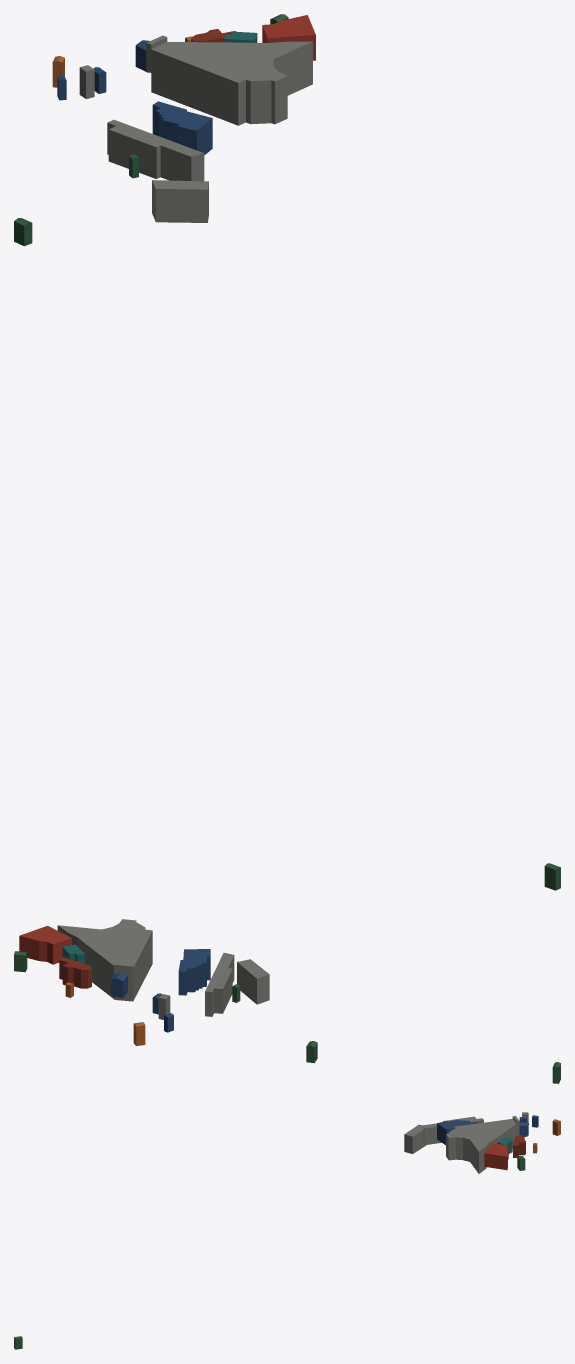
The model's file is near-15-27355-14870.e1260113.glb.
3 views of the same model, one above another, from view 1: azimuth 30°, elevation 25°; view 2: azimuth 150°, elevation 25°; view 3: azimuth 270°, elevation 25° (orthographic). The views are drawn at different scales.
Bounding box in the file's own units: 297 × 404 × 800.
